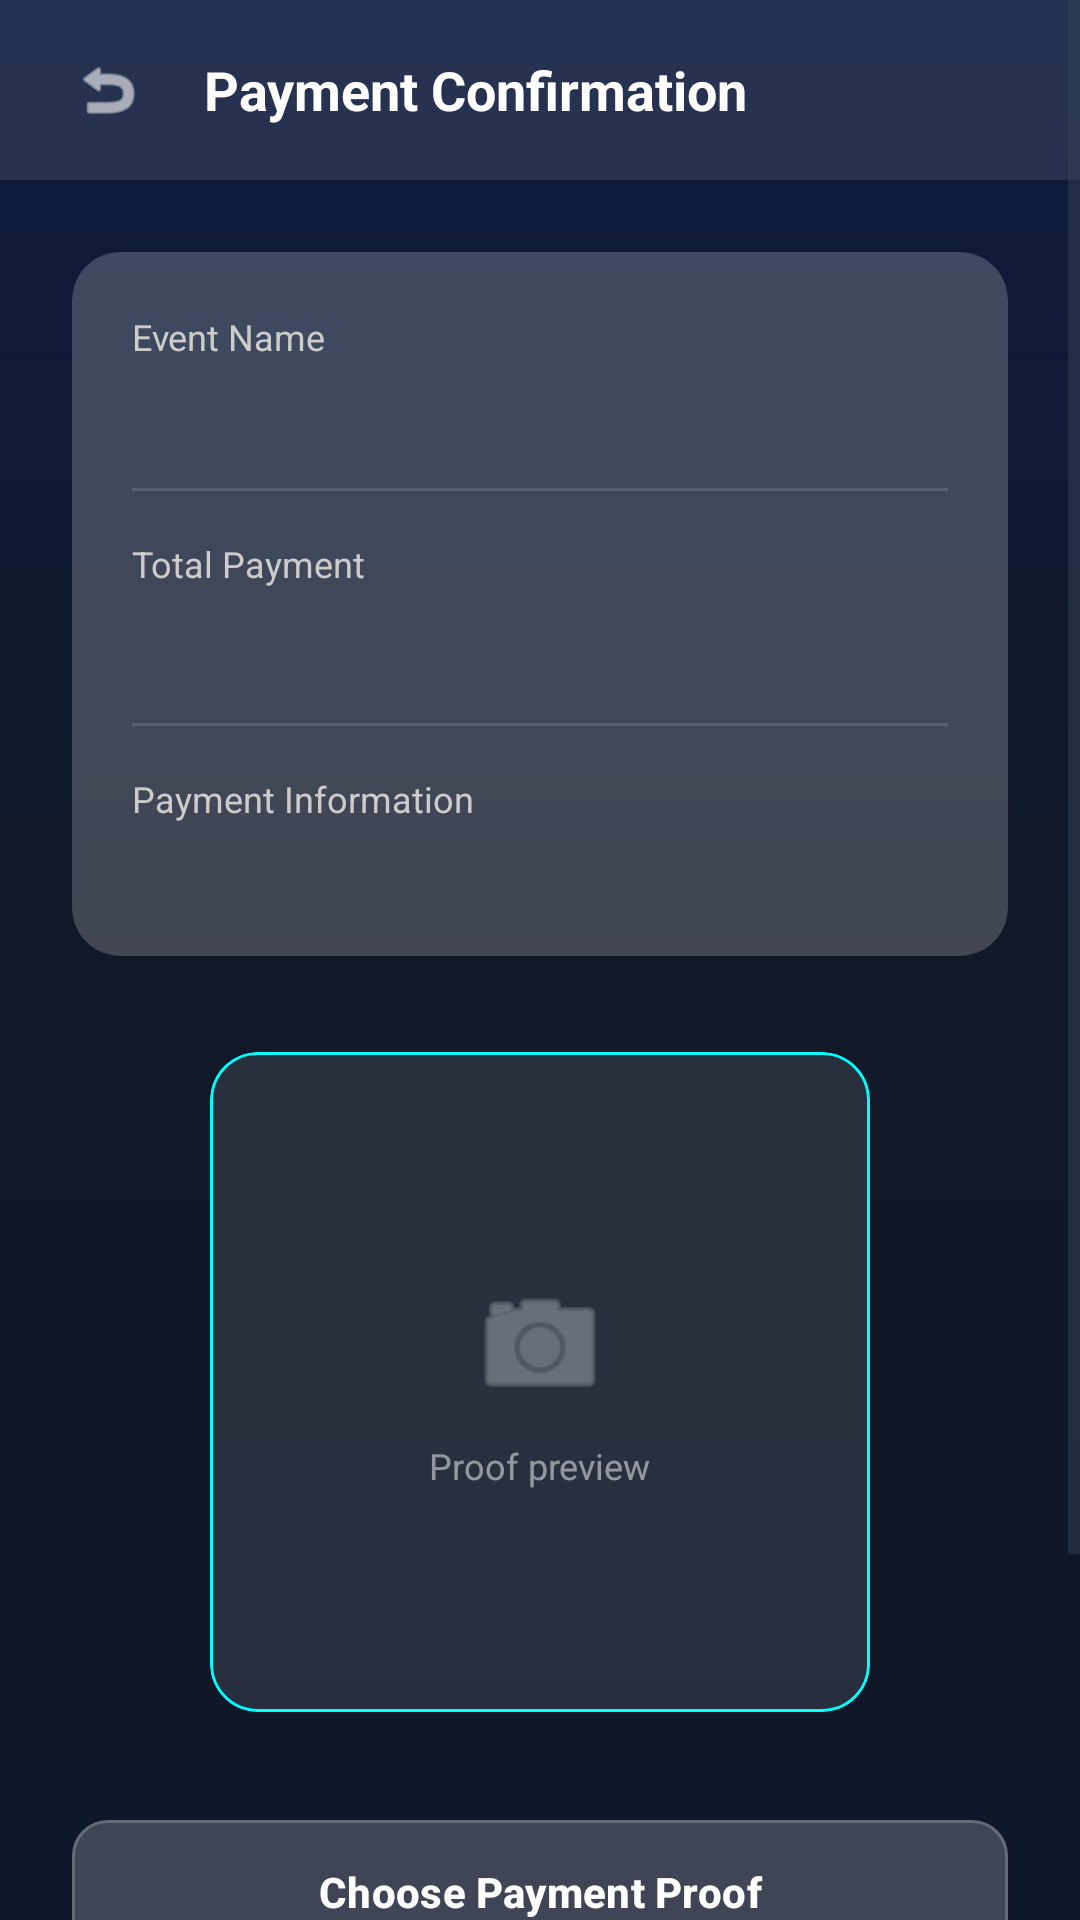

Icons on this 1080×1920 Android screen, each with its box as (x1, y1, x2, y2):
camera: (485, 1299, 595, 1386)
revert: (83, 67, 135, 114)
